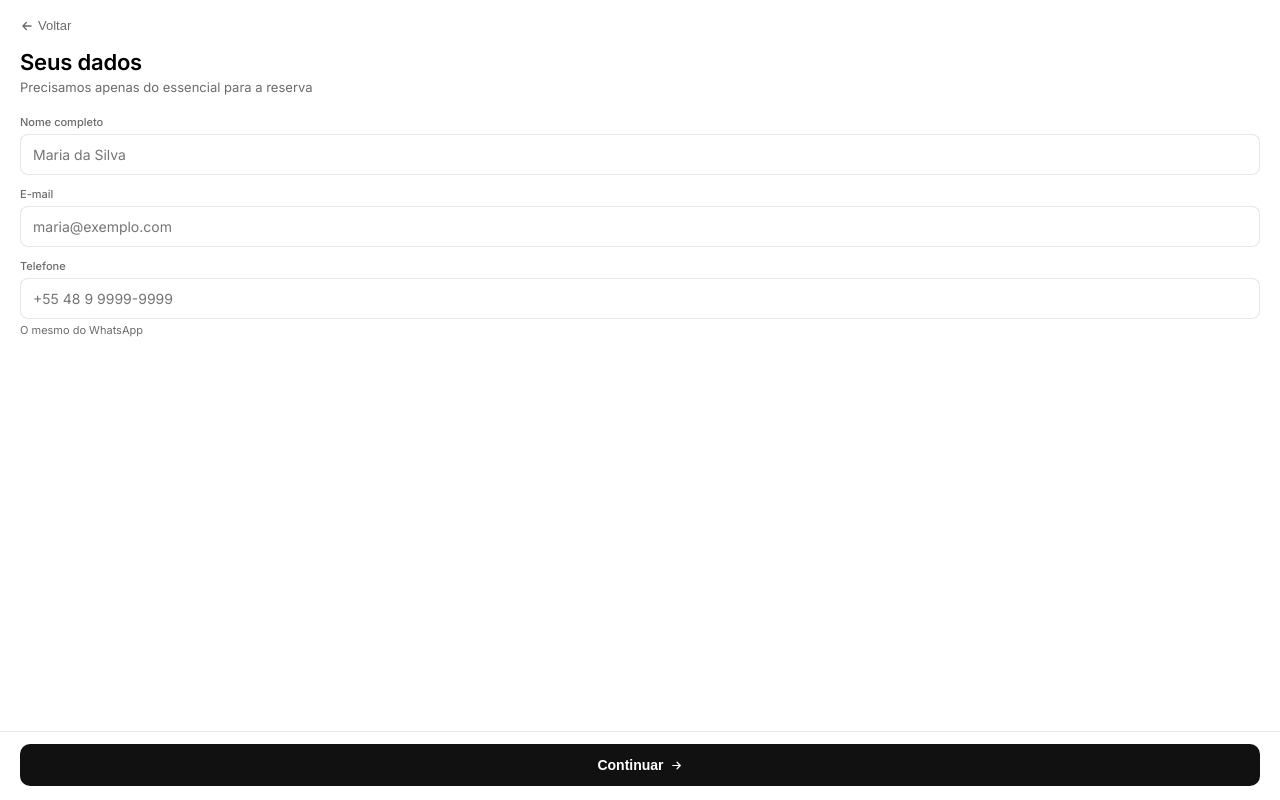
Scenario: Integration: Guest details step › When user submits with invalid email, form does not advance and shows validation error
The width and height of the screenshot is (1280, 800).
Type "Maria Silva" into the field named "Nome completo".
click(640, 155); type("Maria Silva")  # box [20, 134, 1260, 175]
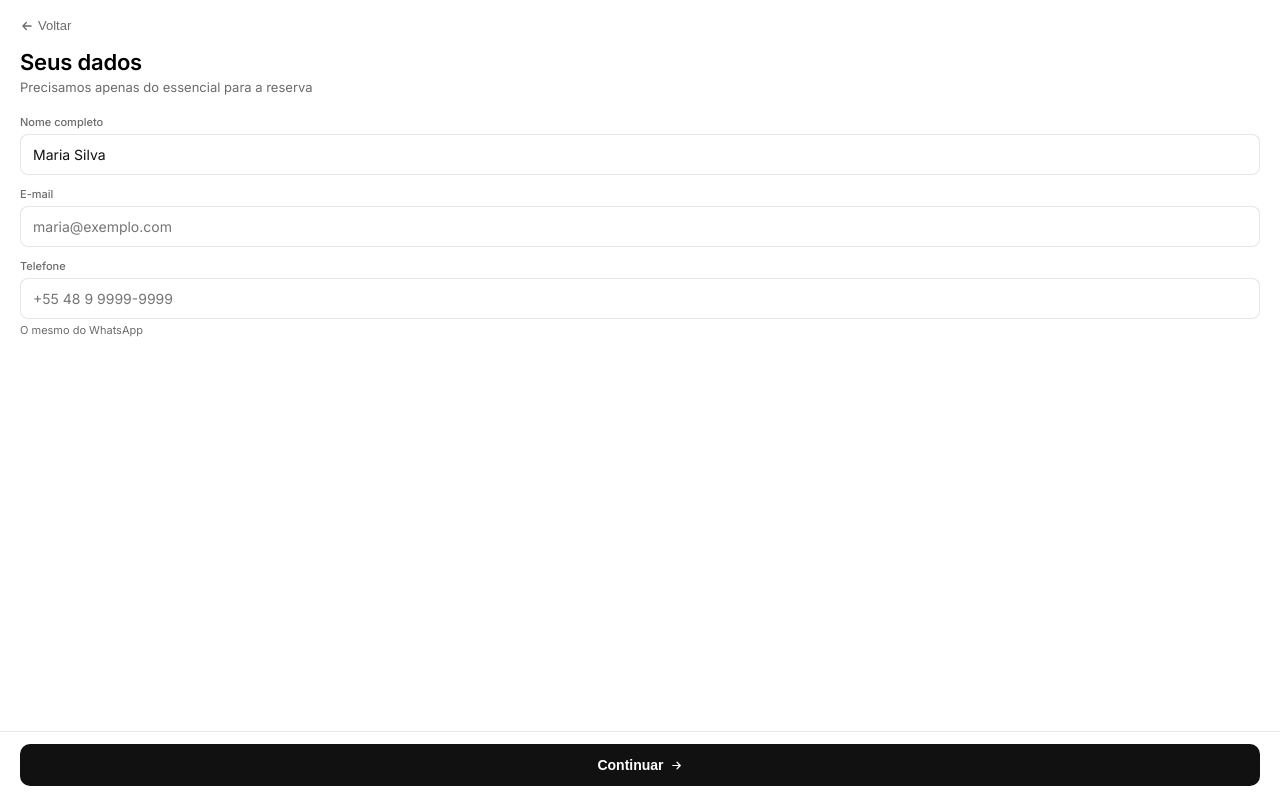
Type "not-an-email" into the field named "E-mail".
click(640, 227); type("not-an-email")  # box [20, 206, 1260, 247]
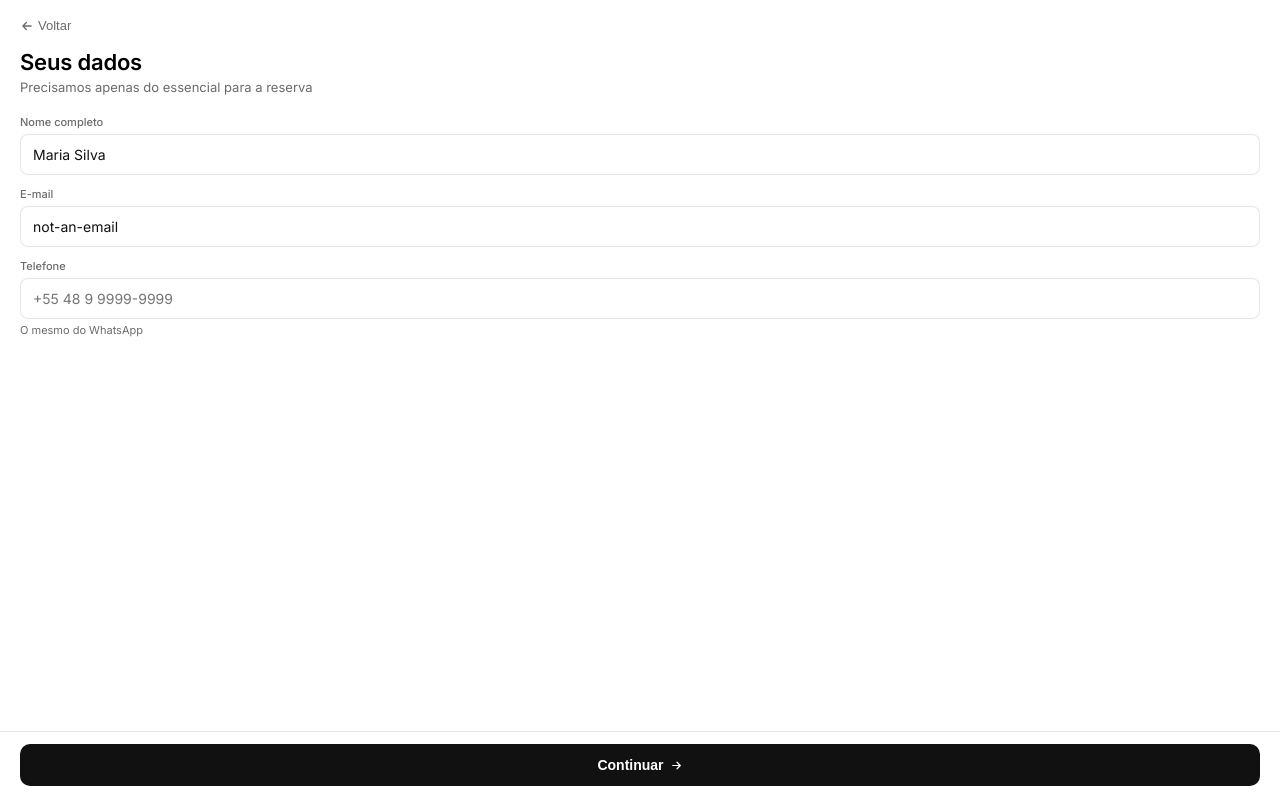
Type "+5511987654321" into the field named "Telefone".
click(640, 299); type("+5511987654321")  # box [20, 278, 1260, 319]
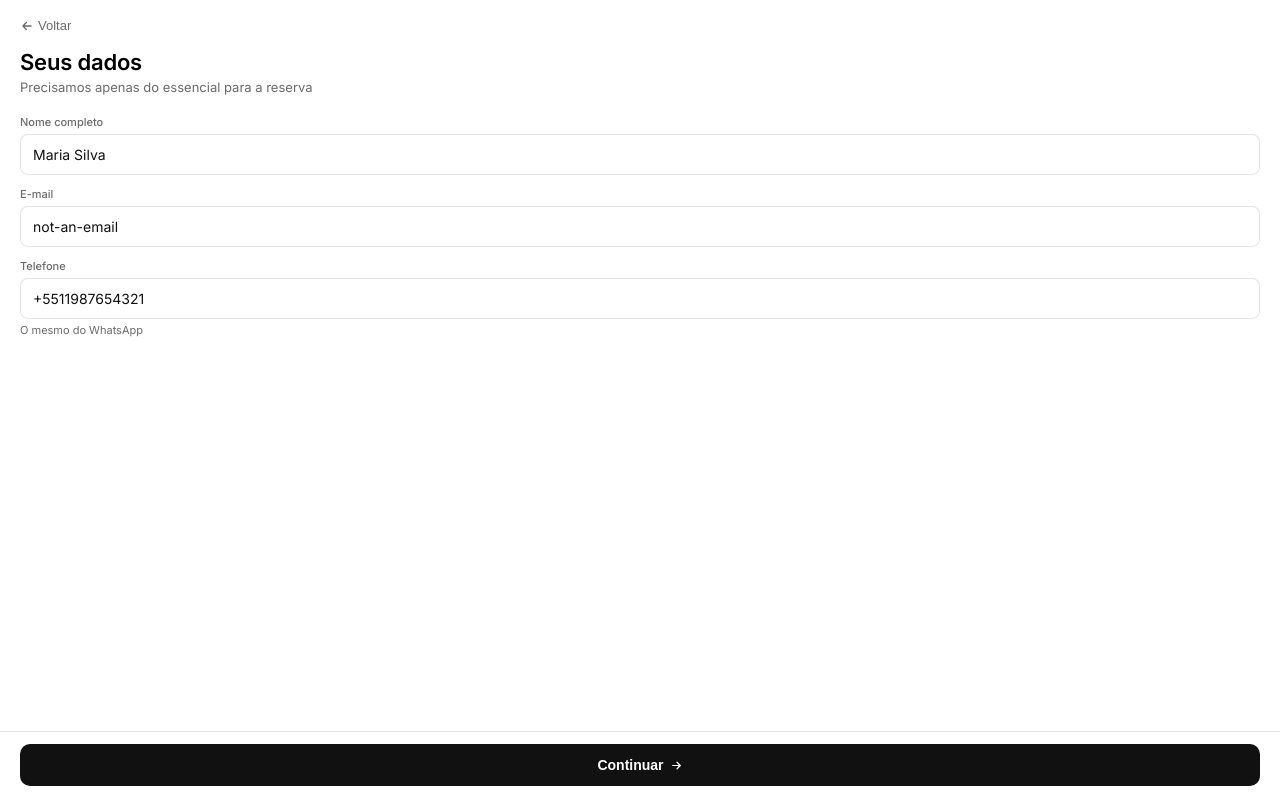
Click the button "Continuar".
click(640, 765)  # box [20, 744, 1260, 786]
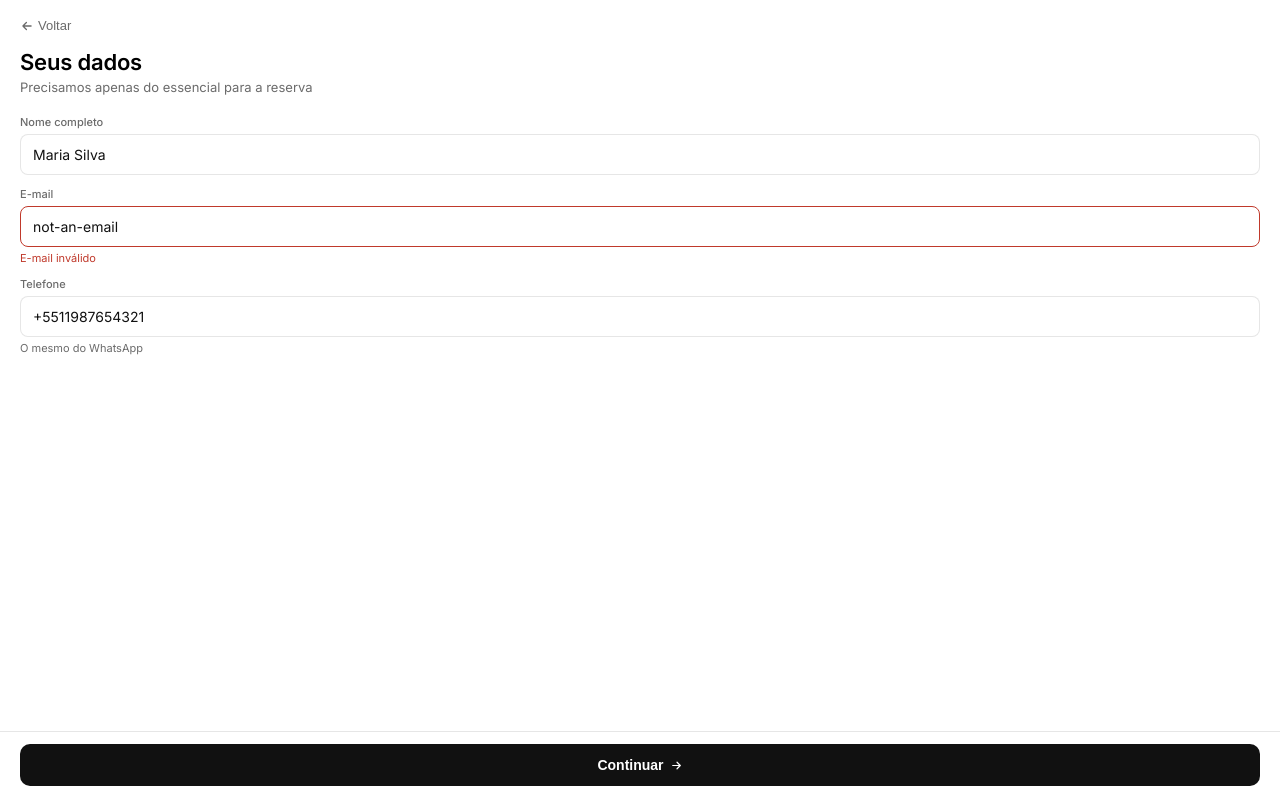
Expected: the text "E-mail inválido" is shown, [20, 251, 96, 265]
